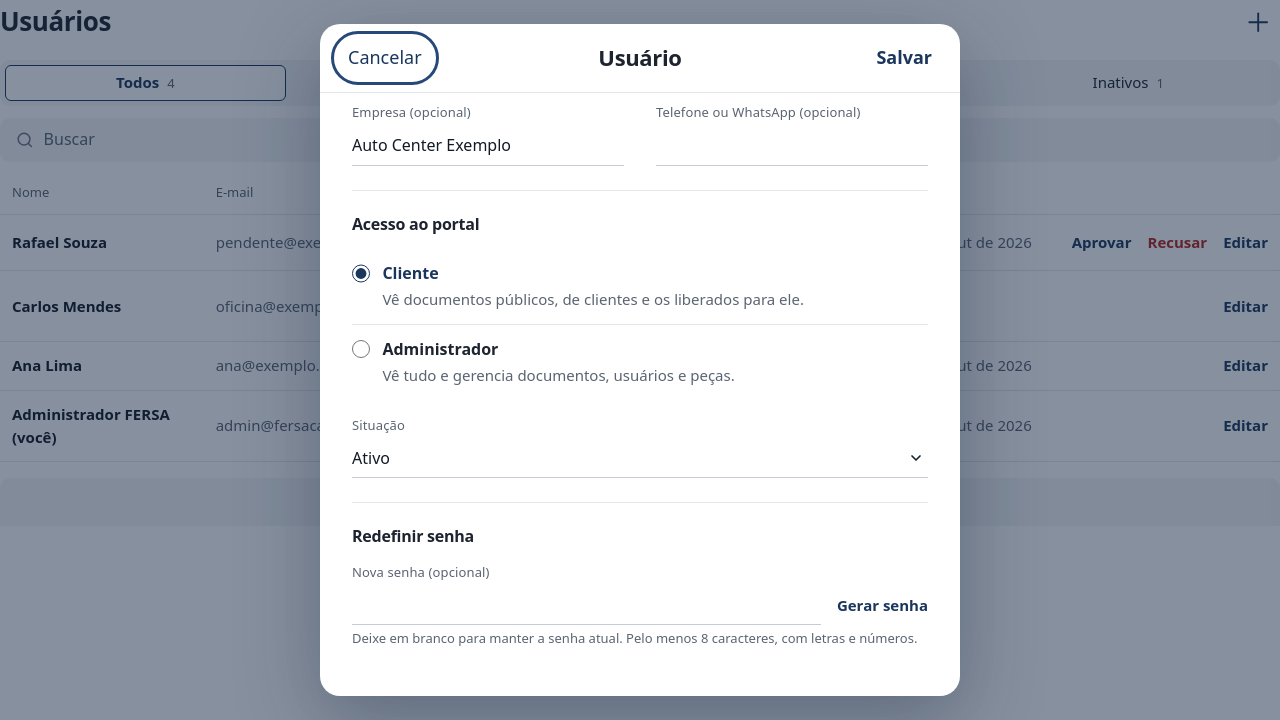
Test case: Edição de usuário › senha em branco mantém a atual (não manda novaSenha)
The image size is (1280, 720).
(page scrolled)
Check: the button "Salvar" is shown, box [864,36,944,80]
Select "Inativo" in the dropdown labelled "Situação": (640, 458) [352,438,928,478]
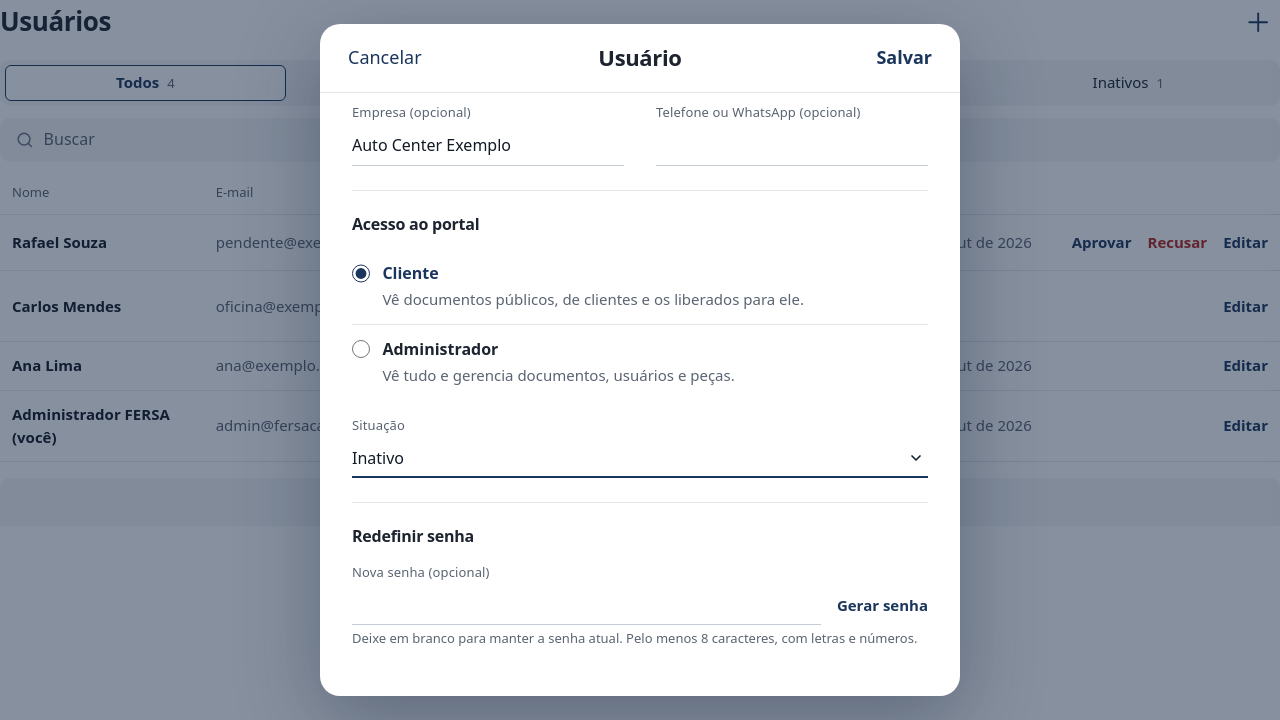
Click the button "Salvar": (904, 58) [864,36,944,80]
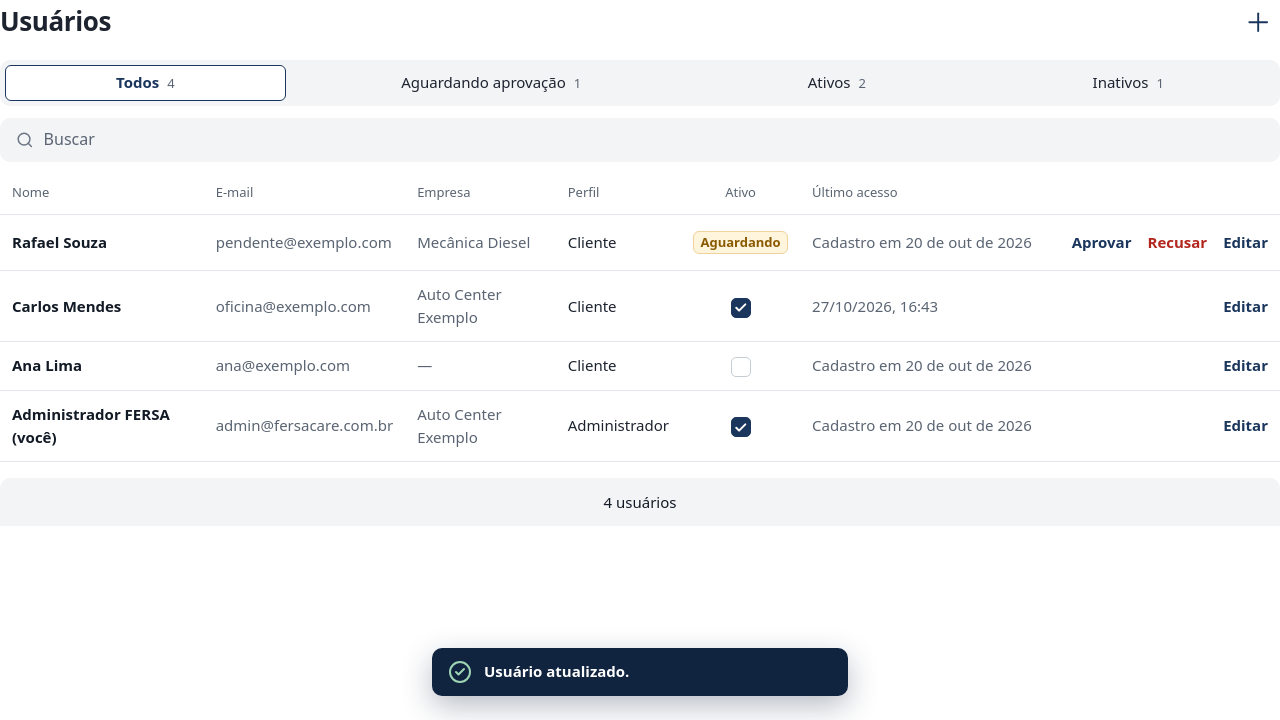
Check: the text "Usuário atualizado." is shown, box [484,660,629,684]
